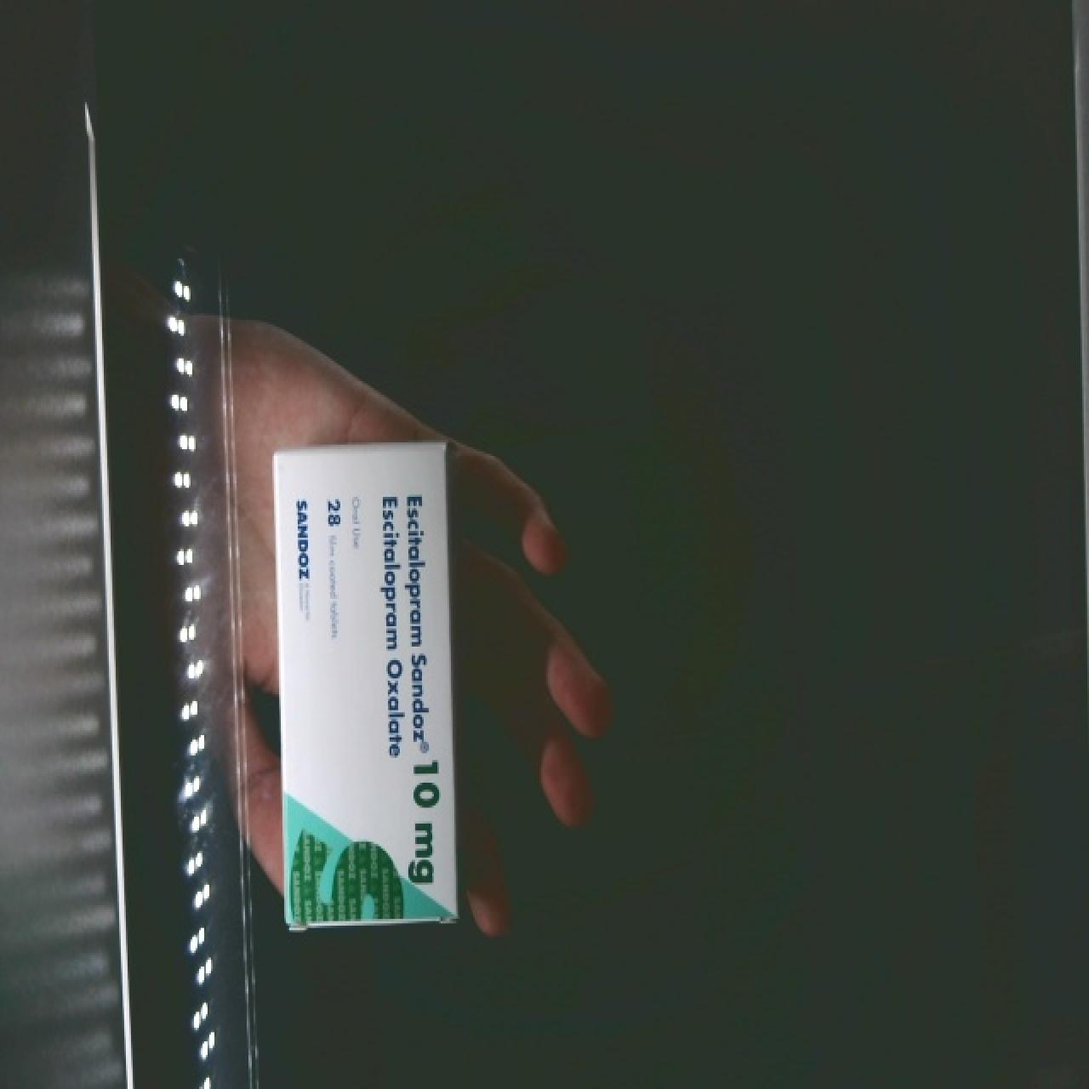medicine_label_obb: (365, 461, 453, 771)
